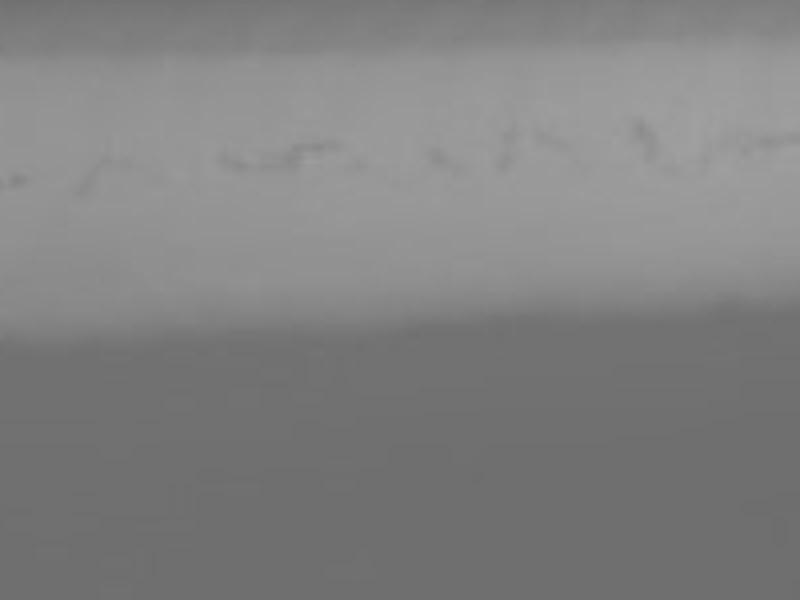defect: (629, 114, 654, 161), (209, 147, 250, 172), (67, 168, 101, 195), (529, 125, 561, 151), (280, 142, 306, 172), (760, 131, 799, 149), (307, 138, 347, 155), (422, 144, 449, 169), (688, 146, 715, 171), (501, 123, 522, 148), (492, 150, 514, 173), (6, 173, 32, 190), (734, 142, 753, 162), (346, 158, 369, 174), (448, 165, 468, 183)
